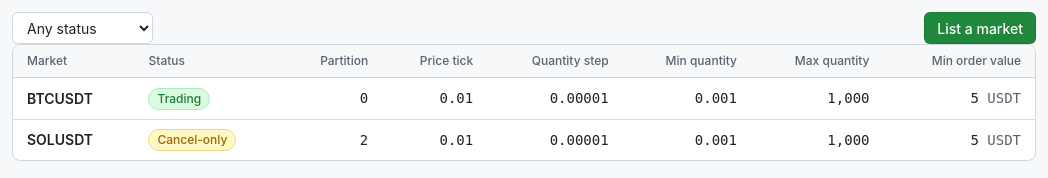
it: Markets › lists every market and filters by status
Expected: the link "SOLUSDT" is shown, x1=27 y1=131 x2=93 y2=148
Select "Cancel-only" in the dropdown named "Status". click: x=82, y=28
box: x1=12 y1=12 x2=153 y2=44
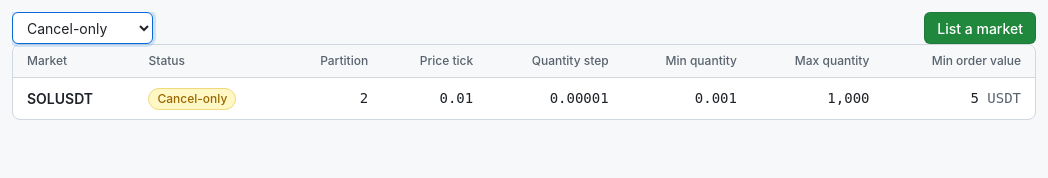
Now the link "BTCUSDT" is gone
